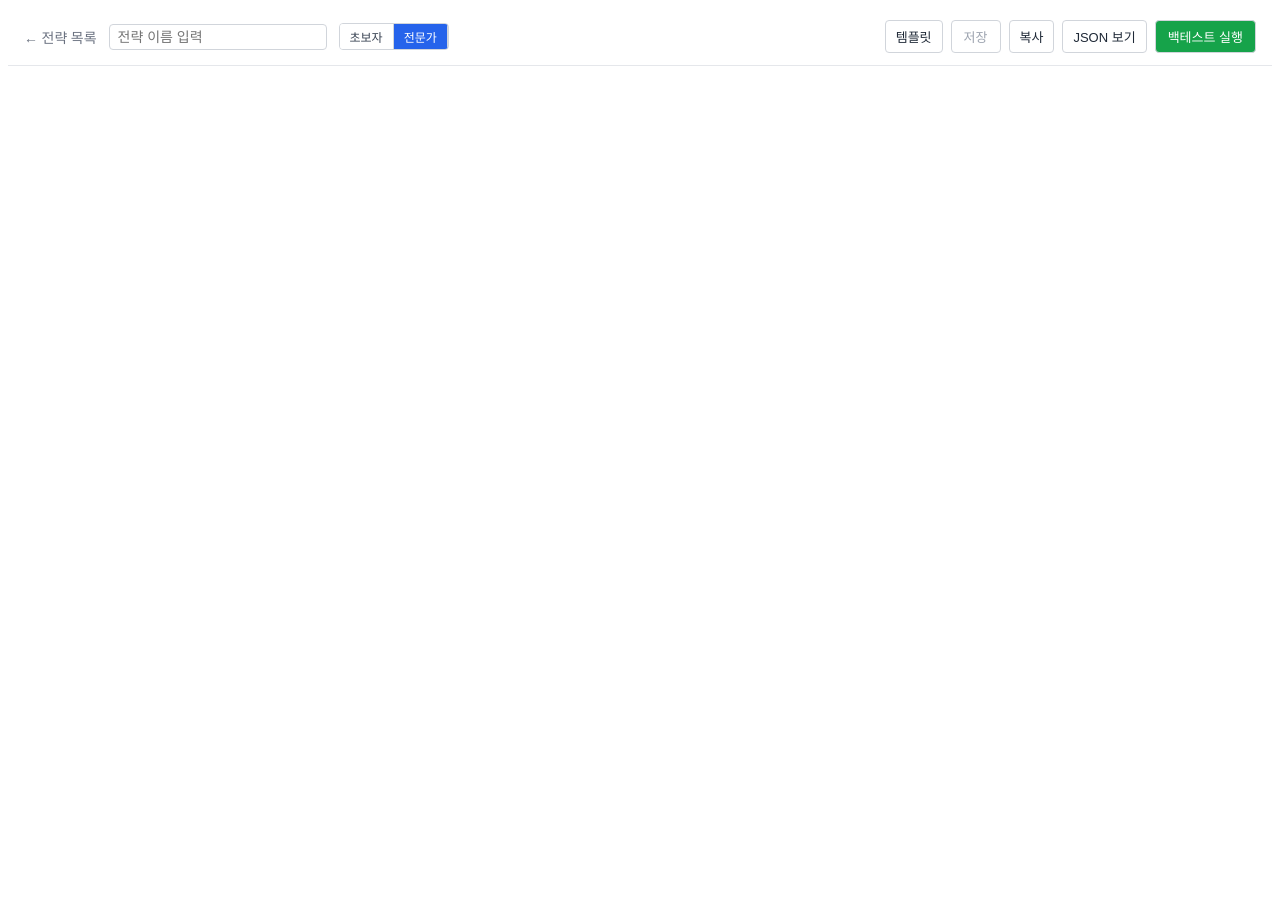
Scenario: StrategyHeader › 템플릿 버튼 → modal 열림
This screenshot has width=1280, height=900.
Click the button with aria-label "템플릿 선택" at (914, 36), box left=885, top=20, right=943, bottom=53
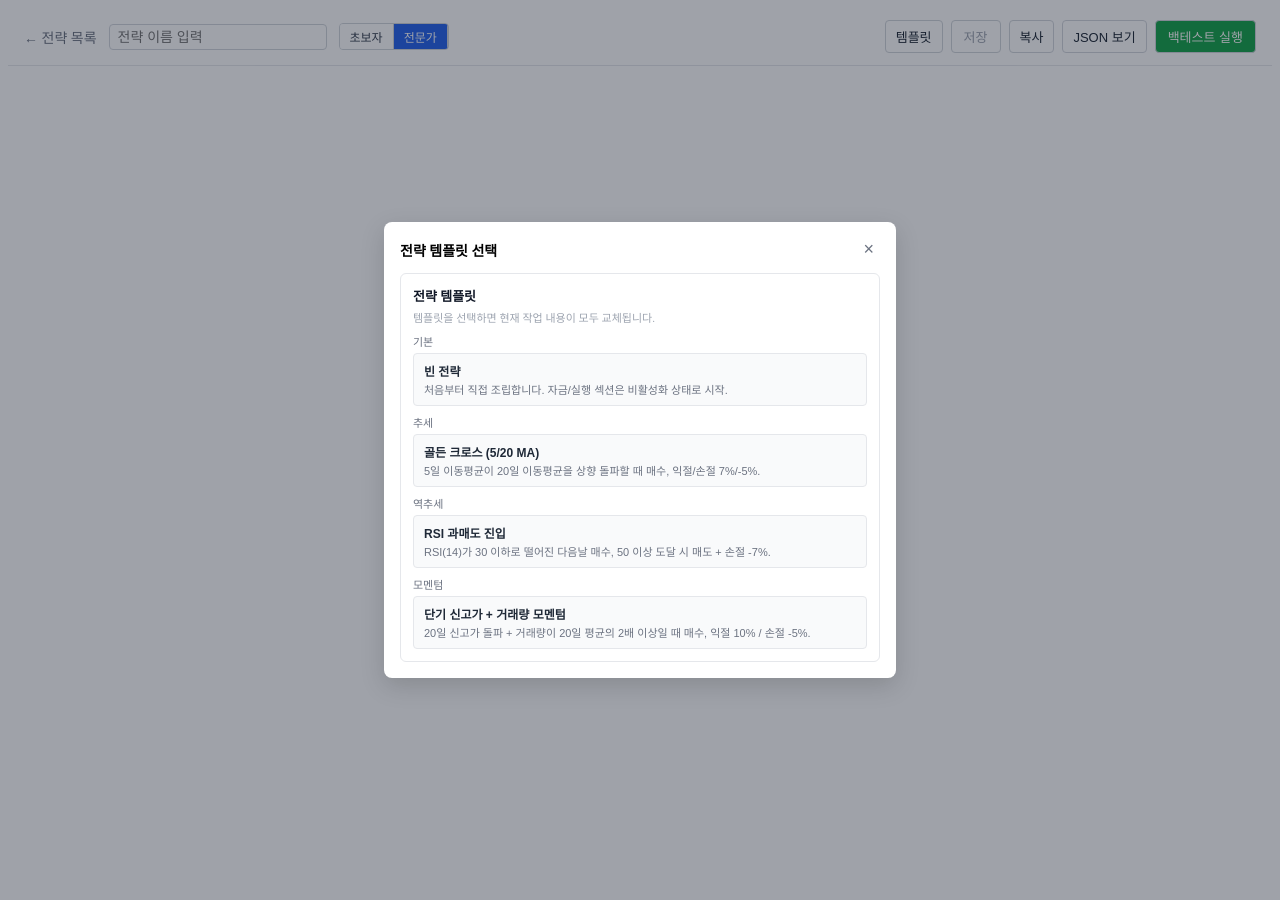
Check: the dialog "전략 템플릿 선택" is shown
Check: the button with aria-label "빈 전략 템플릿 적용" is shown, box left=413, top=353, right=867, bottom=406
Check: the button with aria-label "골든 크로스 (5/20 MA) 템플릿 적용" is shown, box left=413, top=434, right=867, bottom=487
